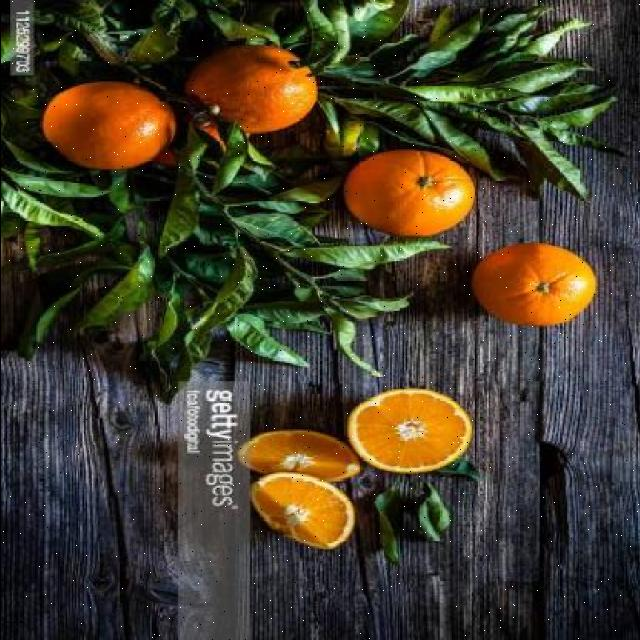Orange: (41, 78, 177, 170), (184, 43, 318, 134), (343, 148, 475, 237), (346, 386, 474, 474), (471, 240, 598, 326), (249, 471, 357, 549), (237, 428, 361, 482)
